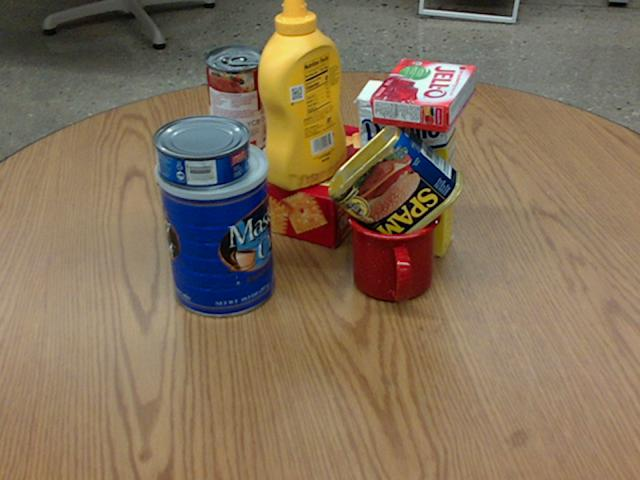cracker_box: (164, 102, 394, 248)
gelatin_box: (371, 58, 476, 131)
large_marker: (172, 138, 200, 243)
master_chef_can: (153, 135, 276, 315)
mug: (346, 189, 444, 303)
mustard_bottle: (259, 0, 347, 189)
potted_meat_can: (327, 120, 463, 252)
sugar_box: (358, 79, 458, 258)
tomato_soup_can: (204, 44, 269, 152)
tuna_fish_can: (152, 113, 250, 187)
